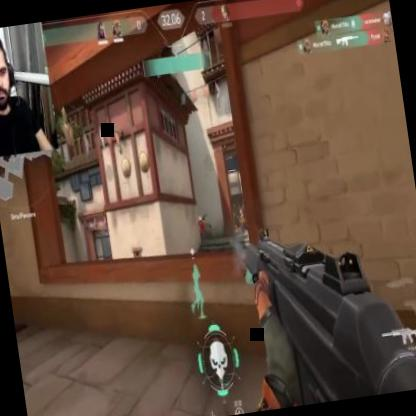enemy: (237, 207, 246, 232)
enemy_head: (238, 209, 242, 214)
